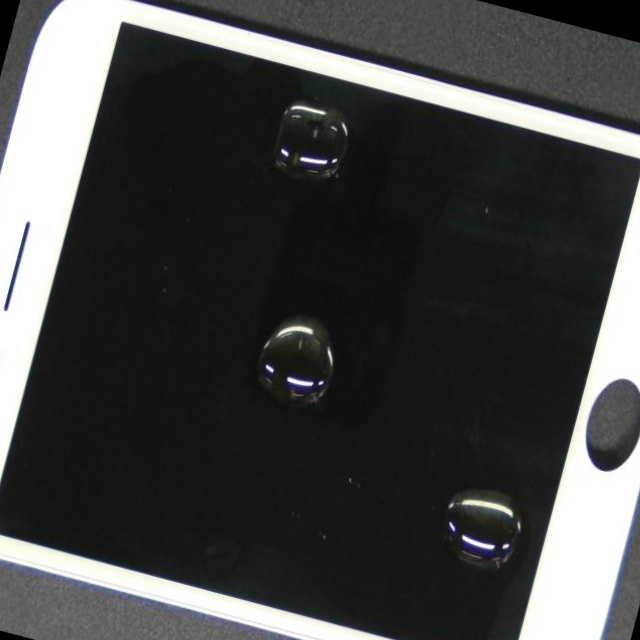oil: (168, 249, 640, 640), (140, 157, 565, 575), (114, 41, 502, 309)
